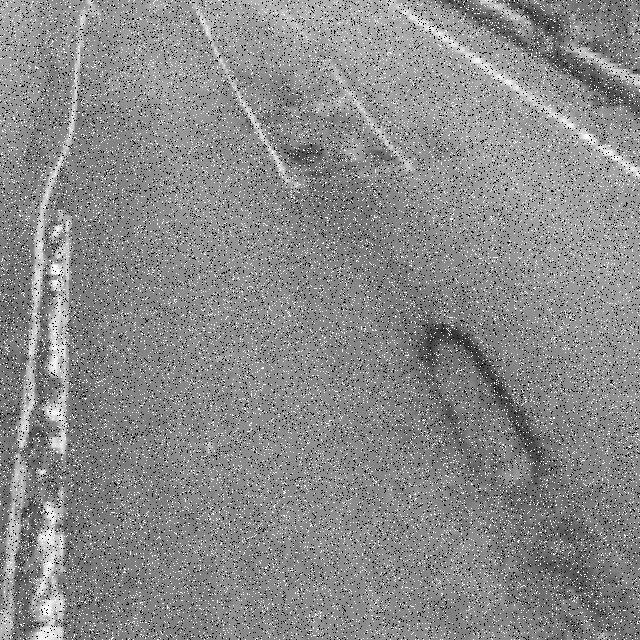pothole: (419, 318, 544, 491)
